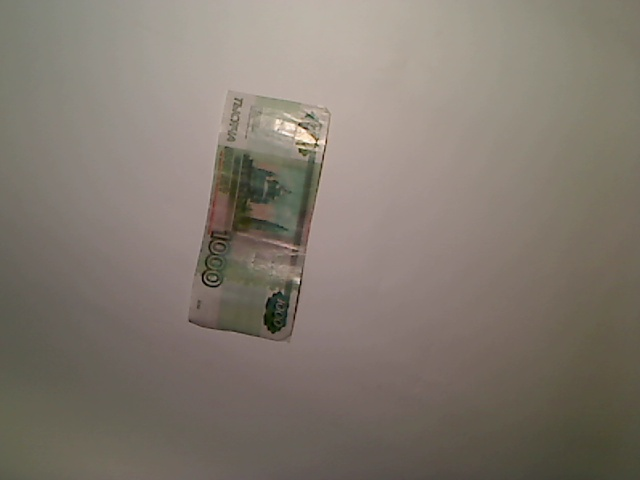banknotes: (181, 85, 334, 346)
